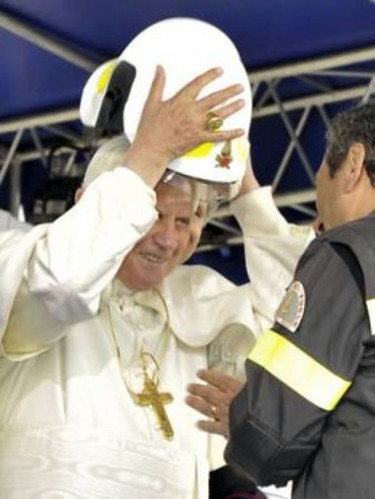person hardhat: (20, 20, 296, 499)
